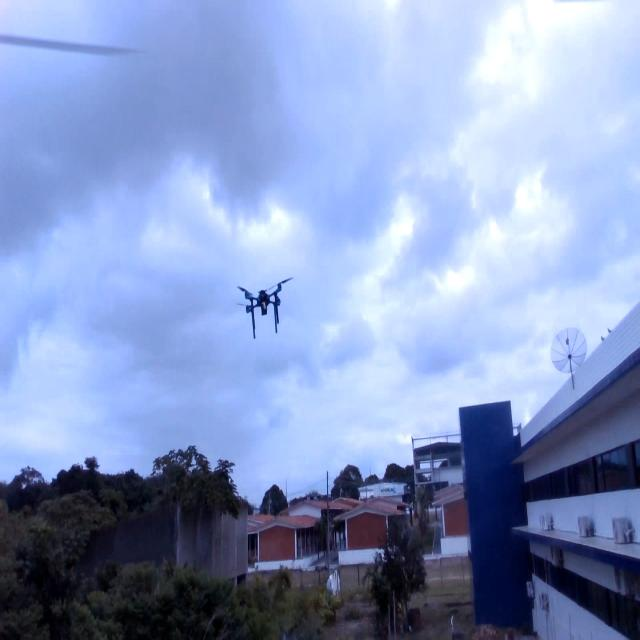-uav-: (232, 276, 300, 344)
